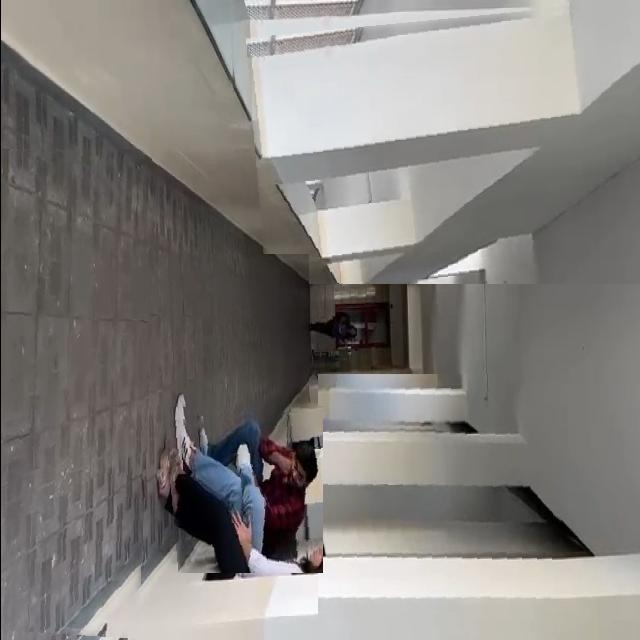floor: (0, 149, 159, 639), (144, 254, 308, 413)
moving_object: (164, 406, 322, 573)
wall: (245, 0, 640, 284), (316, 374, 562, 635)
